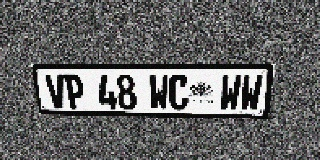4: (97, 74, 118, 109)
8: (116, 74, 137, 110)
C: (169, 75, 189, 110)
P: (63, 74, 86, 109)
V: (45, 74, 68, 109)
W: (239, 75, 263, 111), (219, 75, 242, 111), (149, 75, 168, 110)
